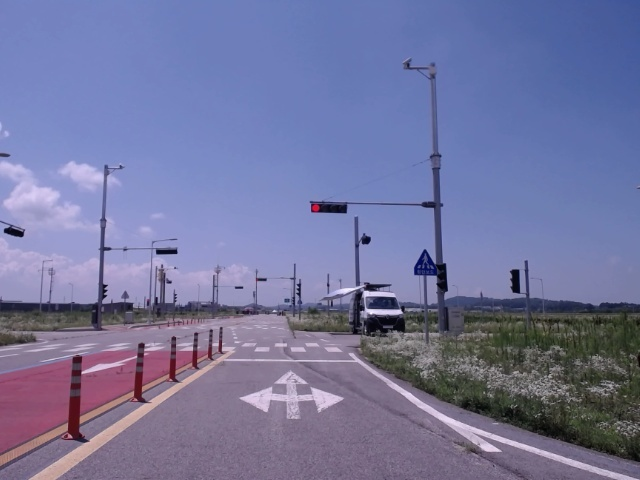red_4: (310, 202, 348, 214)
